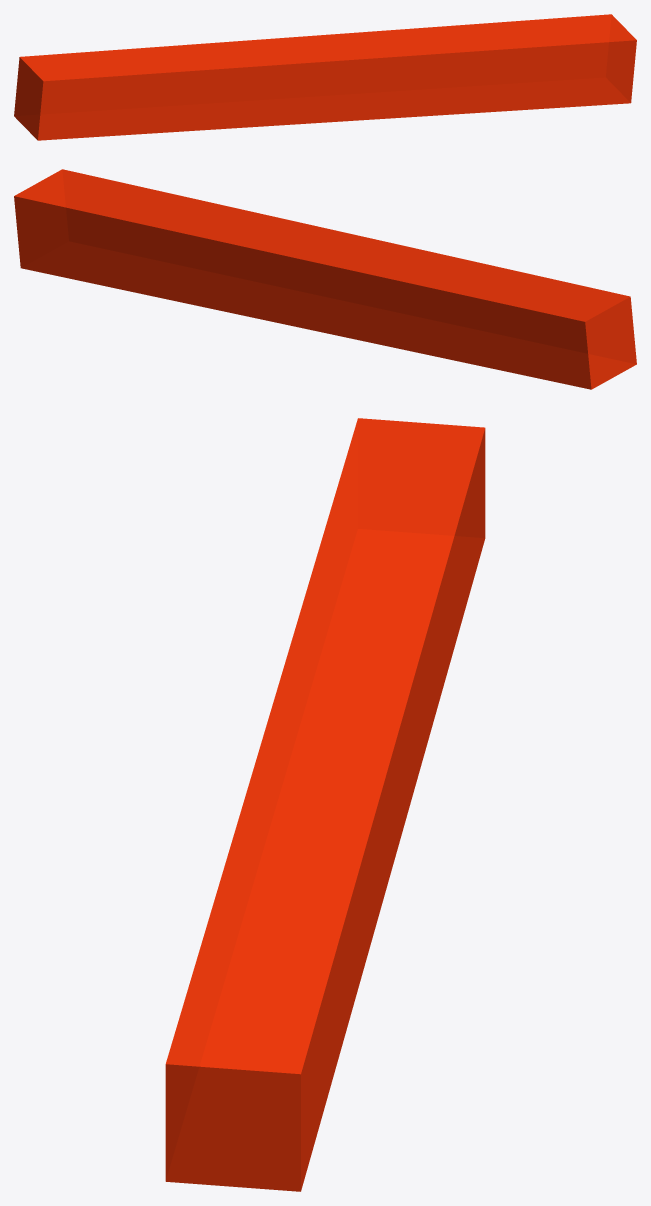
Rendered from Event_420107950_EErechit_90.fbx.
3 renders of one model, top to bottom at view 1: azimuth 30°, elevation 25°; view 2: azimuth 150°, elevation 25°; view 3: azimuth 270°, elevation 25°, orthographic. The views are drawn at different scales.
Visible parts, largest first — view 1: Model; view 2: Model; view 3: Model.
Boxes of the visible parts, x1,y1,x2,y2 form: Model: (14, 14, 636, 140); Model: (14, 169, 636, 389); Model: (165, 418, 485, 1191).
Size of the model in its own units: 0.7284 by 0.1485 by 0.1802.
